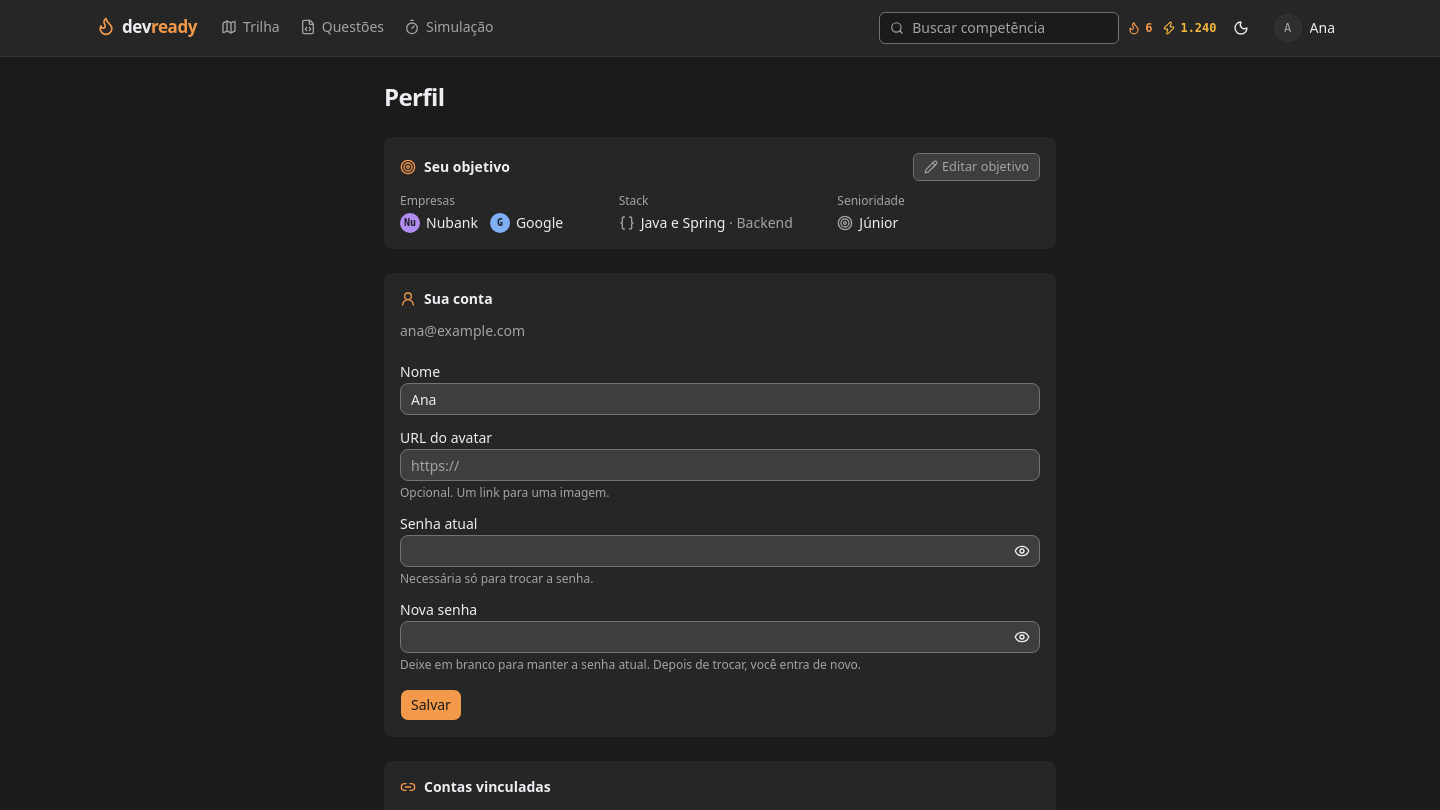
Test case: ProfilePage › salva nome e mostra confirmação
The width and height of the screenshot is (1440, 810).
Replace the text in the field labelled "Nome" with "Ana Souza" at {"x": 720, "y": 399}, box [400,383,1040,415]
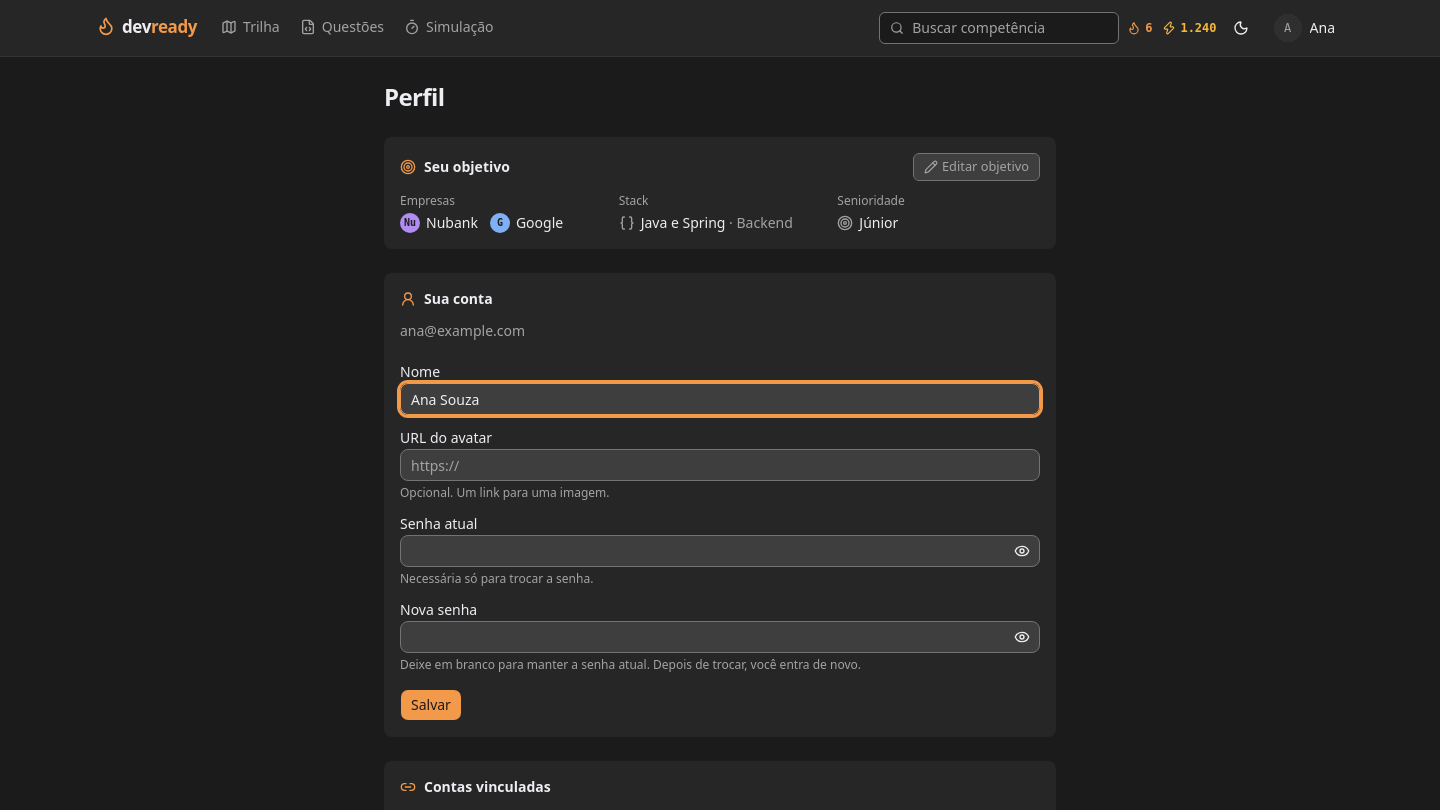
Click the button "Salvar" at {"x": 431, "y": 705}, box [400,689,462,721]
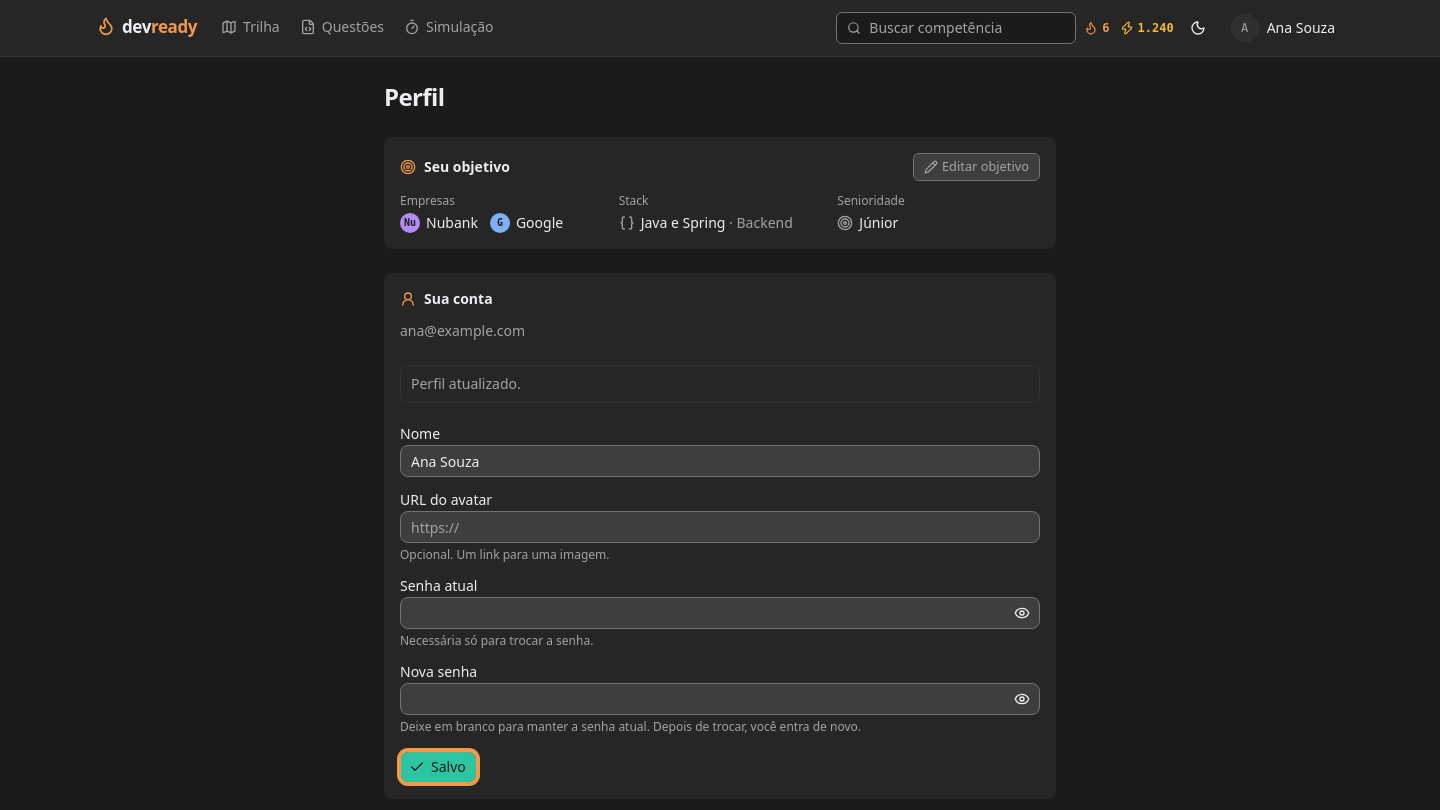
Check: the text "Perfil atualizado." is shown, box [411,374,521,393]
Check: the text "Ana Souza" is shown, box [1267,18,1335,38]
